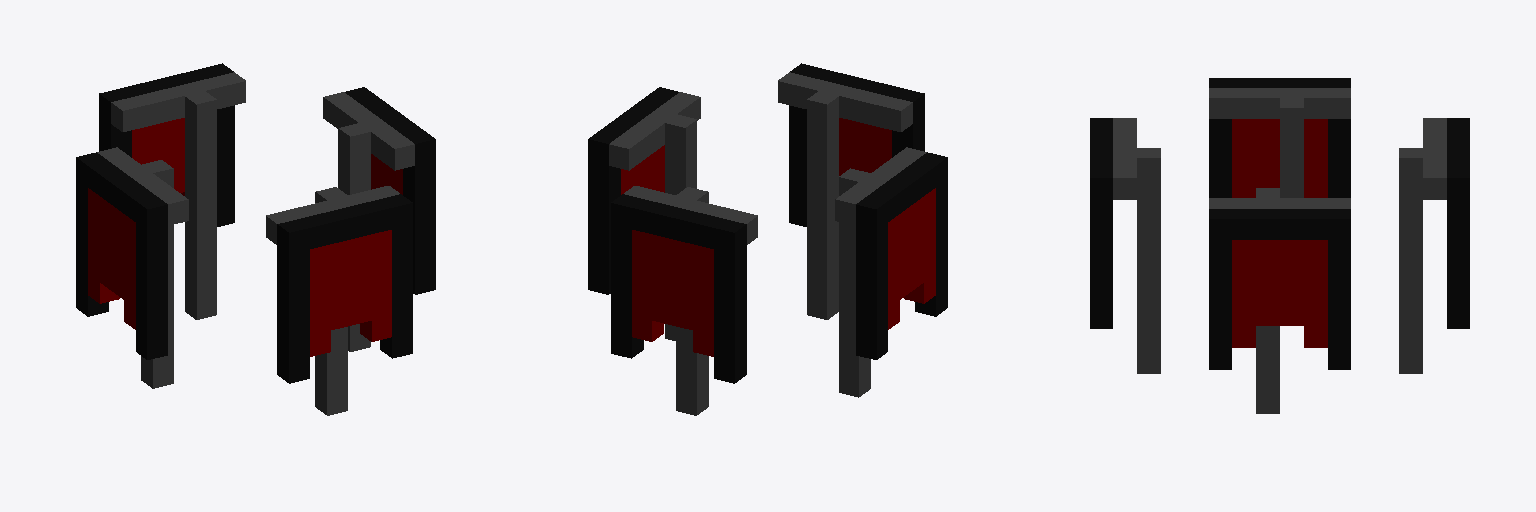
3 views of the same model, side by side, from view 1: azimuth 30°, elevation 25°; view 2: azimuth 150°, elevation 25°; view 3: azimuth 270°, elevation 25° (orthographic).
Visible parts, largest first — view 1: object 1; view 2: object 1; view 3: object 1.
Part boxes in pixels (bbox=[...]): object 1: bbox=[76, 63, 435, 415]; object 1: bbox=[588, 63, 947, 415]; object 1: bbox=[1090, 78, 1469, 413].
Size of the model in its own units: 1.4 by 1 by 1.6.
1 materials, 1 textured.